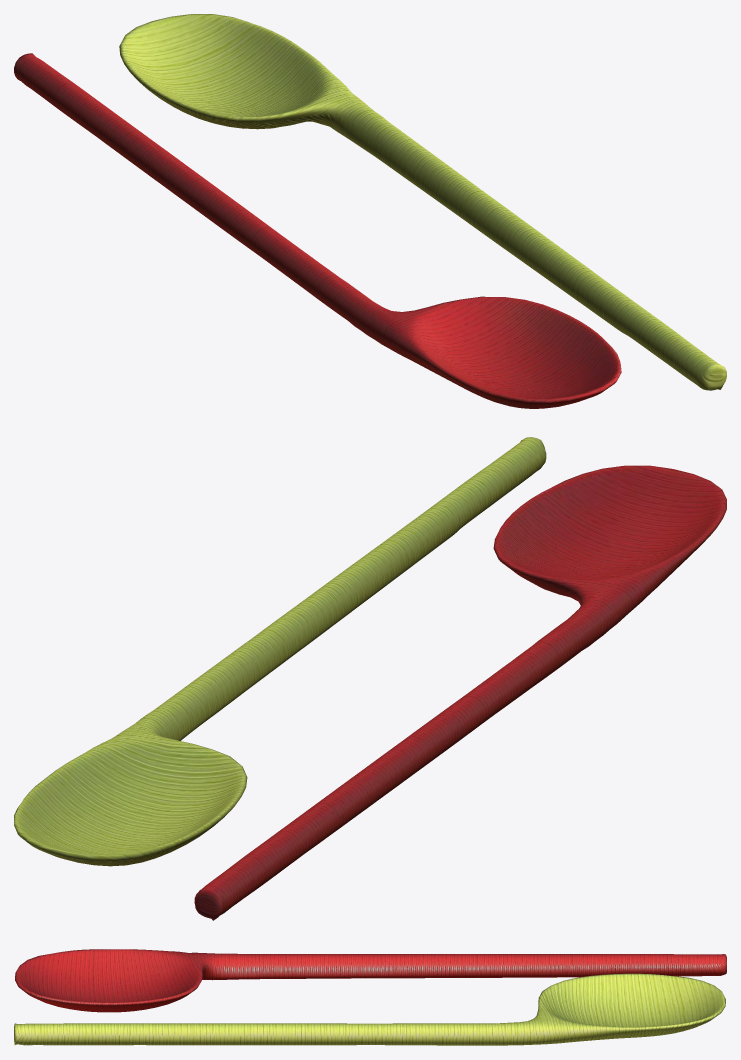
Rendered from 27_Asymmetry.glb.
3 views of the same model, one above another, from view 1: azimuth 30°, elevation 25°; view 2: azimuth 150°, elevation 25°; view 3: azimuth 270°, elevation 25° (orthographic). The views are drawn at different scales.
Visible parts, largest first — view 1: 27_Asymmetry; view 2: 27_Asymmetry; view 3: 27_Asymmetry.
Boxes of the visible parts, <box> form: 27_Asymmetry: <box>14,14,726,408</box>; 27_Asymmetry: <box>14,437,726,920</box>; 27_Asymmetry: <box>14,949,726,1045</box>.
Bounding box in the file's own units: 0.0542 × 0.00887 × 0.205.
1 material, 1 textured.
